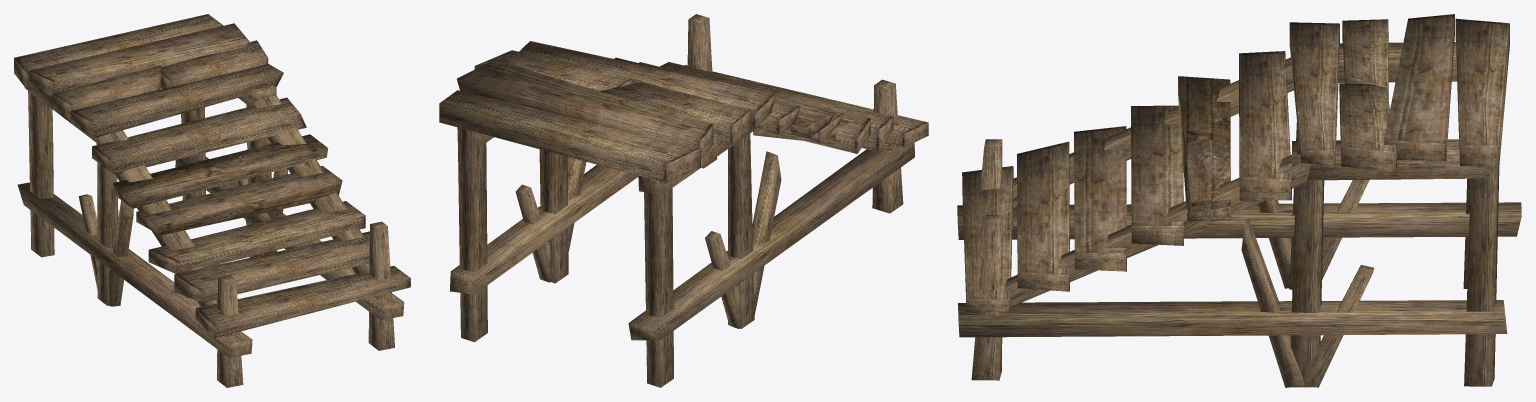
File: S_Build_West049.FBX
3 renders of one model, left to right at view 1: azimuth 30°, elevation 25°; view 2: azimuth 150°, elevation 25°; view 3: azimuth 270°, elevation 25°, orthographic. The views are drawn at different scales.
Parts seen in each view (by area): view 1: S_Build_West049; view 2: S_Build_West049; view 3: S_Build_West049.
Boxes of the visible parts, x1,y1,x2,y2 form: S_Build_West049: [14, 14, 410, 387]; S_Build_West049: [439, 14, 928, 387]; S_Build_West049: [957, 14, 1521, 387].
Size of the model in its own units: 361 by 628 by 317.
